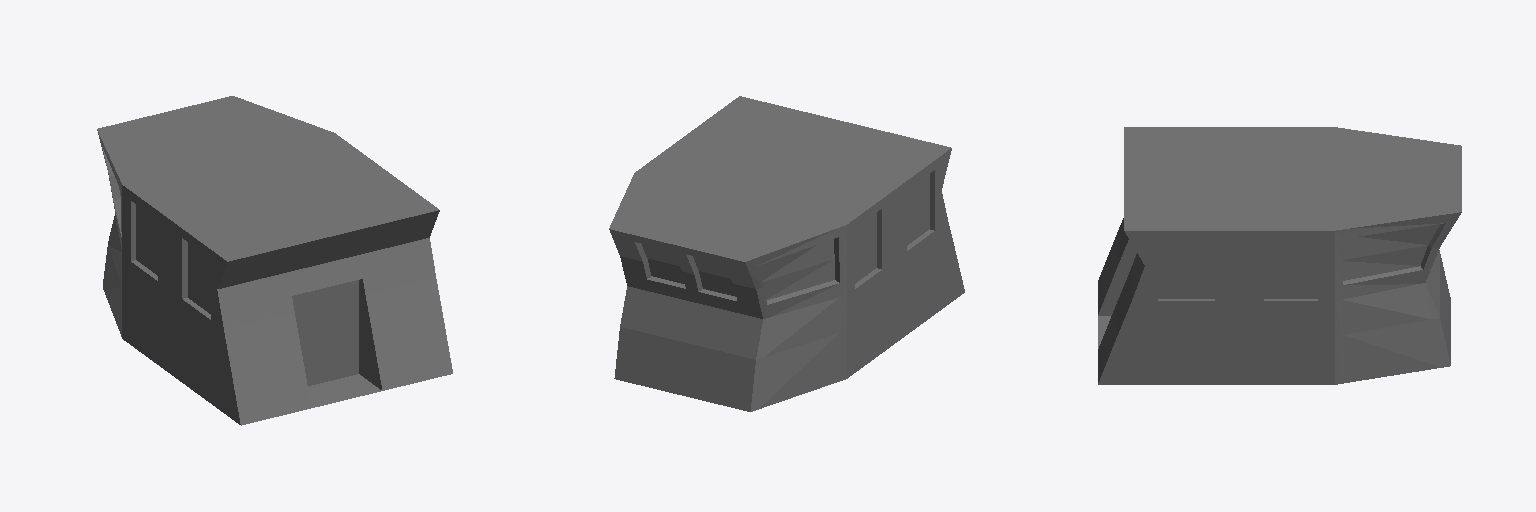
Rendered from boatCabin.obj.
3 views of the same model, side by side, from view 1: azimuth 30°, elevation 25°; view 2: azimuth 150°, elevation 25°; view 3: azimuth 270°, elevation 25° (orthographic).
Parts seen in each view (by area): view 1: pCube4 group5; view 2: pCube4 group5; view 3: pCube4 group5.
Boxes of the visible parts, x1,y1,x2,y2 form: pCube4 group5: [97, 96, 452, 425]; pCube4 group5: [609, 96, 964, 411]; pCube4 group5: [1098, 127, 1461, 384].
Size of the model in its own units: 3.93 by 2.72 by 5.83.